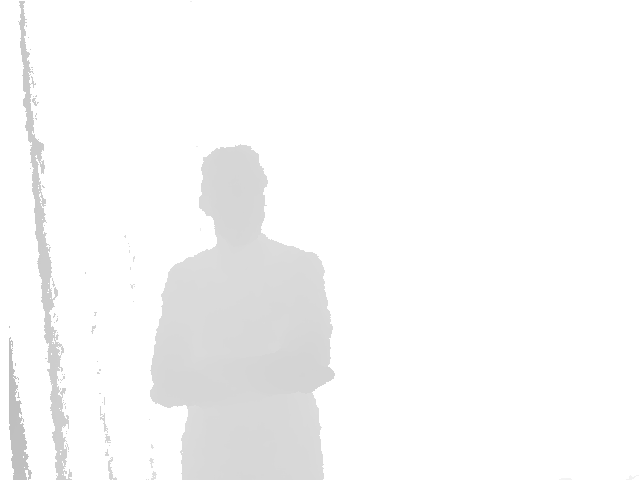head: (198, 145, 268, 233)
person: (147, 144, 338, 480)
